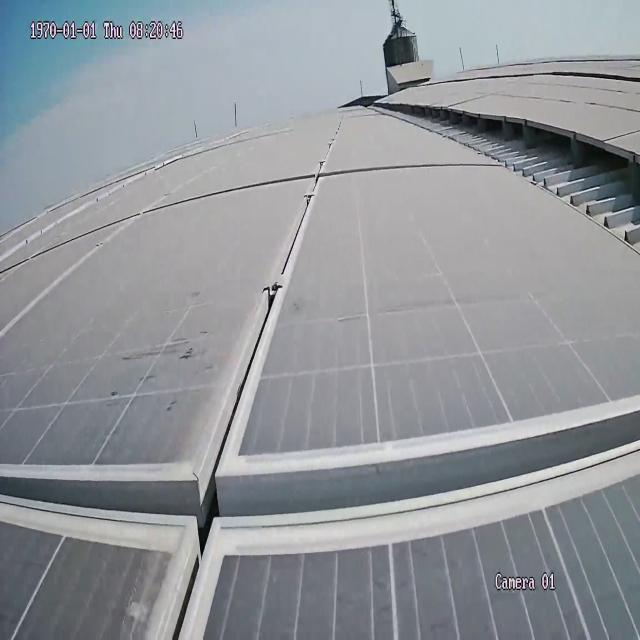interior panel: (3, 142, 640, 640)
outher panel: (381, 102, 640, 262)
